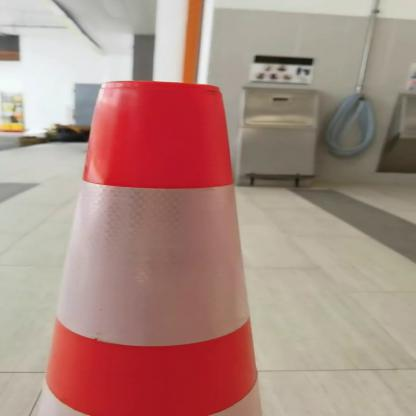cone: (32, 73, 319, 415)
